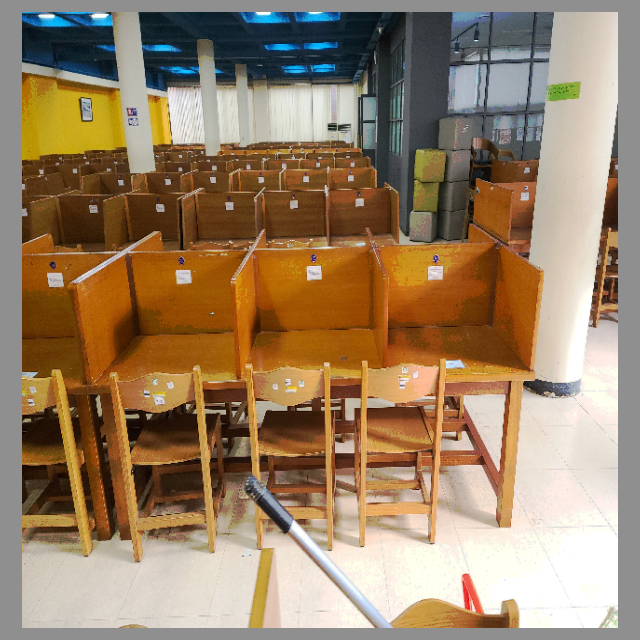empty: (79, 246, 230, 474), (236, 235, 382, 456), (388, 235, 538, 448)
